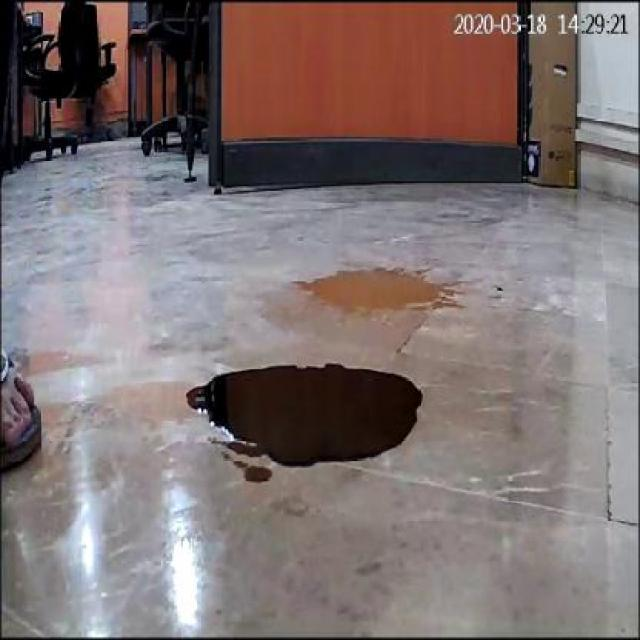spill: (178, 358, 426, 482), (296, 264, 446, 314)
